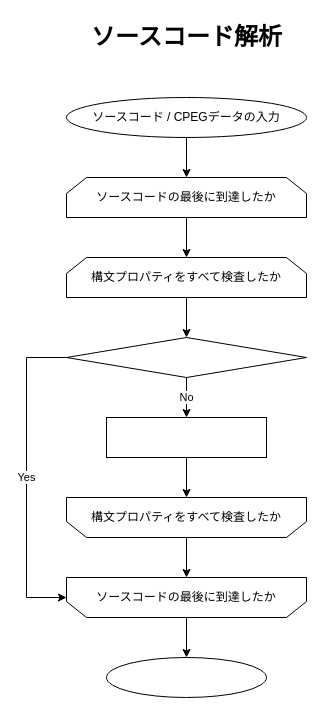
Image size: 324x715. Some labels were removed from this diagram. Each missing label, with the box of its shape:
ASTデータを出力: (106, 656, 266, 698)
構文がマッチするか: (66, 336, 306, 378)
次の構文プロパティに移る: (106, 416, 266, 458)
